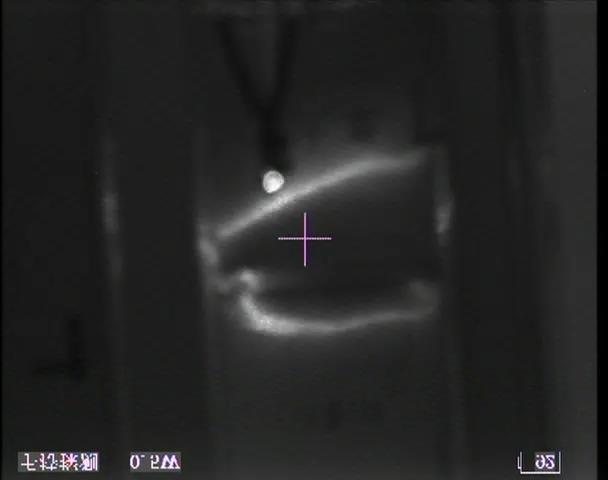my: (260, 170, 285, 196)
